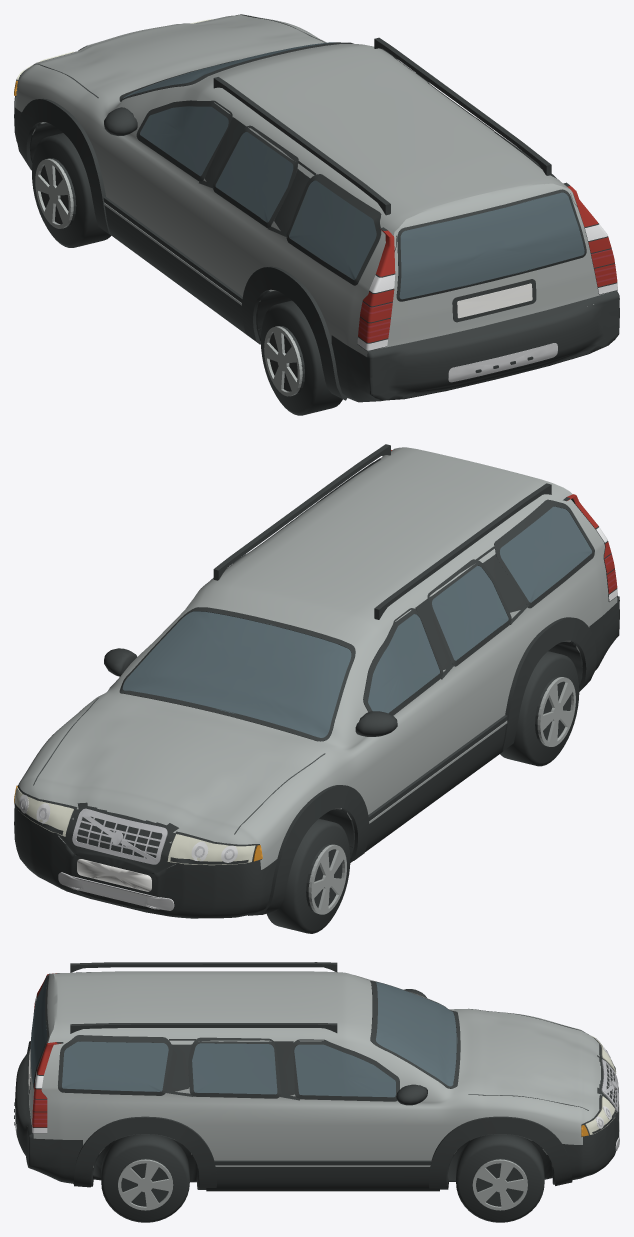
Rendered from xc70-civilian.glb.
3 renders of one model, top to bottom at view 1: azimuth 30°, elevation 25°; view 2: azimuth 150°, elevation 25°; view 3: azimuth 270°, elevation 25°, orthographic. The views are drawn at different scales.
Visible parts, largest first — view 1: body, trim_body_plastic, glass_rear, glass_side_-1_2, trim_cladding_-1, glass_side_-1_1, glass_side_-1_0, trim_flare_-1_-1.393, wheel_rl, wheel_fl, trim_flare_-1_1.37, lamp_tail_-1 (+19 smaller); view 2: body, glass_screen, trim_body_plastic, glass_side_-1_2, trim_cladding_-1, glass_side_-1_1, glass_side_-1_0, trim_flare_-1_1.37, wheel_fl, wheel_rl, trim_flare_-1_-1.393, trim_seal_screen (+19 smaller); view 3: body, trim_body_plastic, trim_cladding_1, glass_screen, glass_side_1_2, wheel_fr, wheel_rr, glass_side_1_1, glass_side_1_0, trim_flare_1_-1.393, trim_flare_1_1.37, trim_roof_rail_-1 (+16 smaller).
Boxes of the visible parts, x1,y1,x2,y2 form: body: (15,14,608,356); trim_body_plastic: (14,45,619,402); glass_rear: (399,192,584,299); glass_side_-1_2: (289,180,376,279); trim_cladding_-1: (103,197,260,344); glass_side_-1_1: (216,132,293,222); glass_side_-1_0: (140,106,228,176); trim_flare_-1_-1.393: (242,266,347,400); wheel_rl: (261,300,342,415); wheel_fl: (32,133,111,247); trim_flare_-1_1.37: (17,98,110,234); lamp_tail_-1: (357,227,396,350); body: (18,447,617,869); glass_screen: (122,611,351,737); trim_body_plastic: (14,596,619,918); glass_side_-1_2: (500,506,591,602); trim_cladding_-1: (350,715,507,862); glass_side_-1_1: (432,566,508,660); glass_side_-1_0: (368,614,439,713); trim_flare_-1_1.37: (248,785,369,915); wheel_fl: (267,818,350,933); wheel_rl: (500,651,579,766); trim_flare_-1_-1.393: (501,617,596,751); trim_seal_screen: (119,607,355,741); body: (27,971,601,1167); trim_body_plastic: (15,1041,618,1189); trim_cladding_1: (206,1160,439,1191); glass_screen: (376,982,457,1086); glass_side_1_2: (62,1041,168,1091); wheel_fr: (456,1134,544,1222); wheel_rr: (101,1134,189,1222); glass_side_1_1: (192,1043,277,1094); glass_side_1_0: (294,1044,395,1097); trim_flare_1_-1.393: (73,1116,216,1187); trim_flare_1_1.37: (429,1116,572,1188); trim_roof_rail_-1: (70,962,337,972).
Size of the model in its own units: 2.01 by 1.55 by 4.72.
